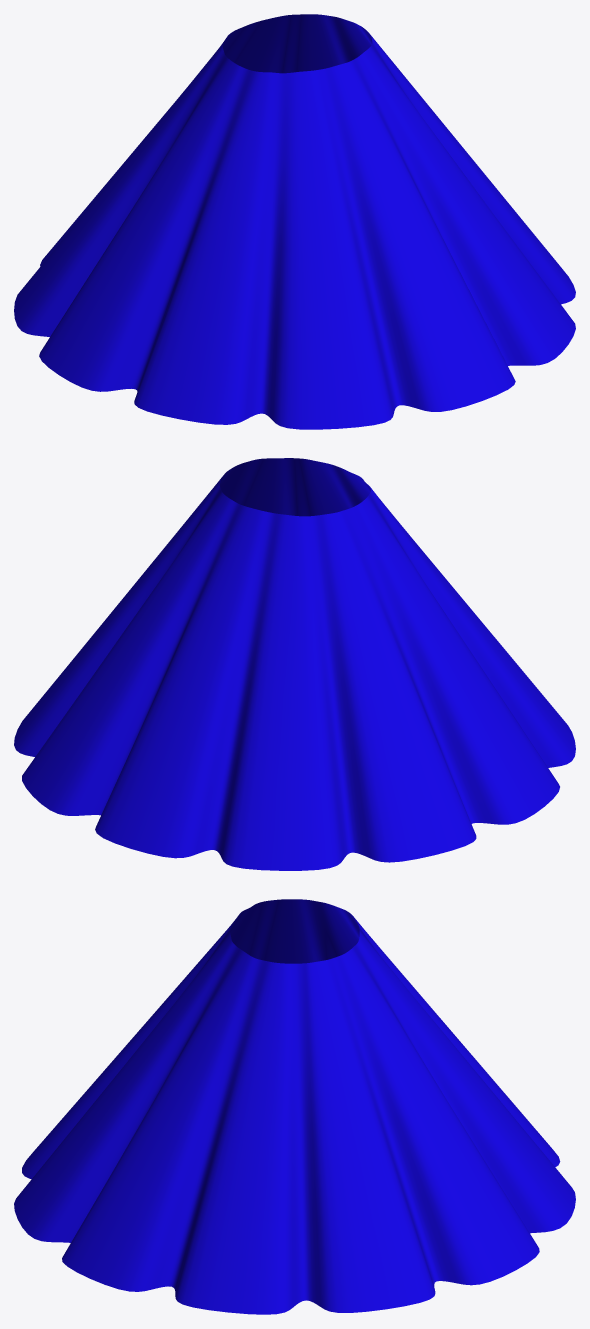
The model's file is longskirt.fbx.
The picture shows the model from 3 angles, top to bottom: view 1: azimuth 30°, elevation 25°; view 2: azimuth 150°, elevation 25°; view 3: azimuth 270°, elevation 25°; orthographic projection.
Visible parts, largest first — view 1: Cylinder; view 2: Cylinder; view 3: Cylinder.
Boxes of the visible parts, box(x1,y1,x2,y2) form: Cylinder: box(14, 14, 575, 429); Cylinder: box(14, 458, 575, 870); Cylinder: box(14, 899, 575, 1314).
Size of the model in its own units: 100 by 52.23 by 100.
